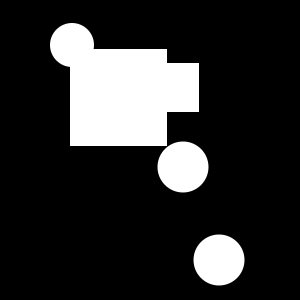circle: (70, 49, 167, 146), (150, 63, 199, 112)
rectangle: (194, 235, 244, 286), (158, 142, 208, 192), (50, 23, 94, 67)
